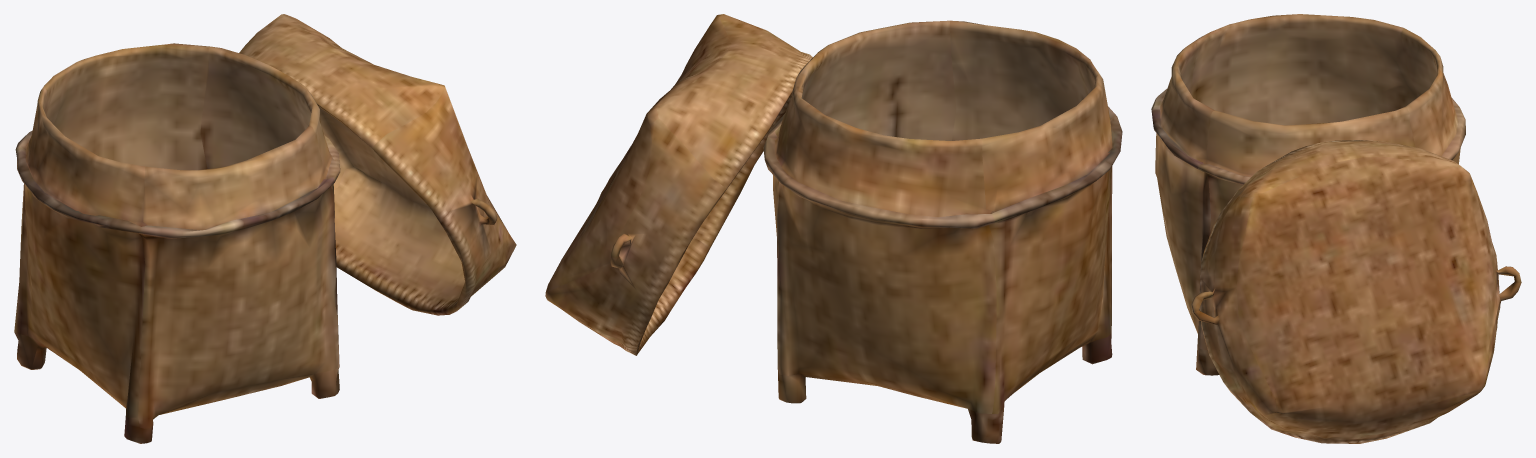
The model's file is basket.glb.
3 views of the same model, side by side, from view 1: azimuth 30°, elevation 25°; view 2: azimuth 150°, elevation 25°; view 3: azimuth 270°, elevation 25° (orthographic). The views are drawn at different scales.
Visible parts, largest first — view 1: wicker_basket_02_base; view 2: wicker_basket_02_base; view 3: wicker_basket_02_base.
Part boxes in pixels (x1,y1,x2,y2): wicker_basket_02_base: (14, 14, 516, 443); wicker_basket_02_base: (545, 14, 1122, 443); wicker_basket_02_base: (1151, 14, 1521, 443).
Bounding box in the file's own units: 0.3469 × 0.2 × 0.2541.
Materials: 1 (1 with a texture image).
